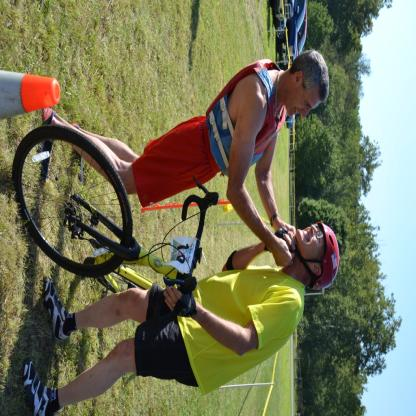Helmet: (295, 222, 338, 292)
